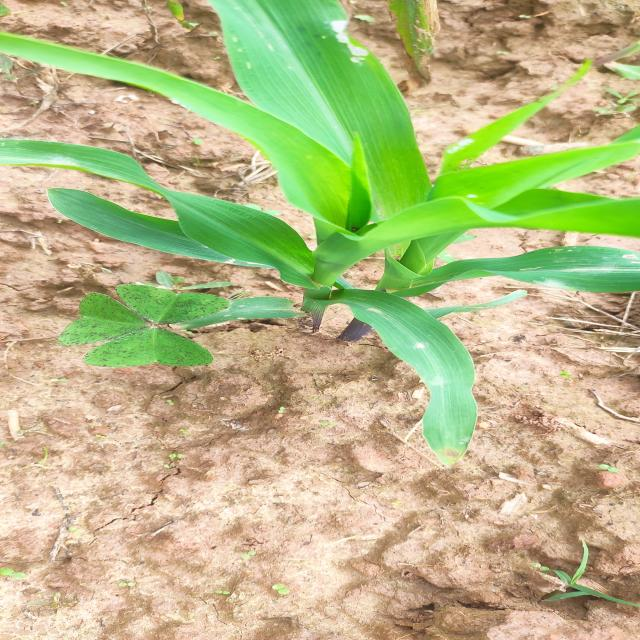maize: (0, 21, 640, 288), (281, 293, 535, 437)
weed: (70, 290, 222, 368), (514, 563, 638, 611)
